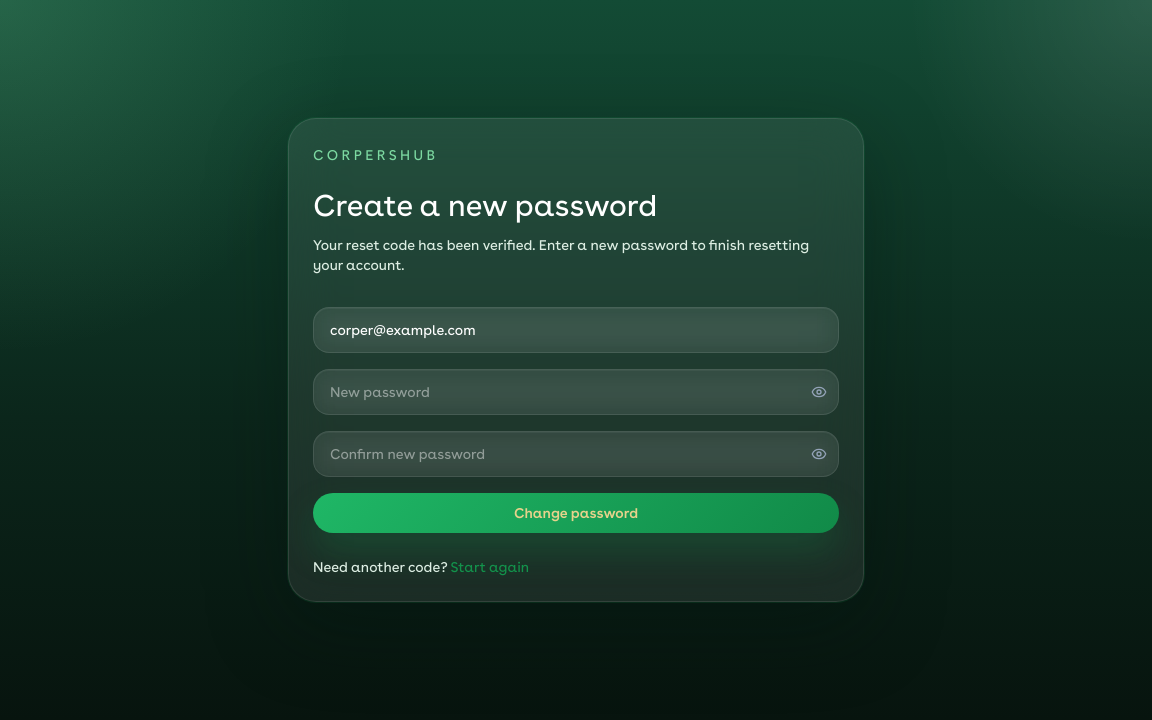
Scenario: ResetPasswordPage › toggles password visibility independently on the reset form
Click the 1st button named "Show password". click: (819, 392)
box: [811,384,827,400]
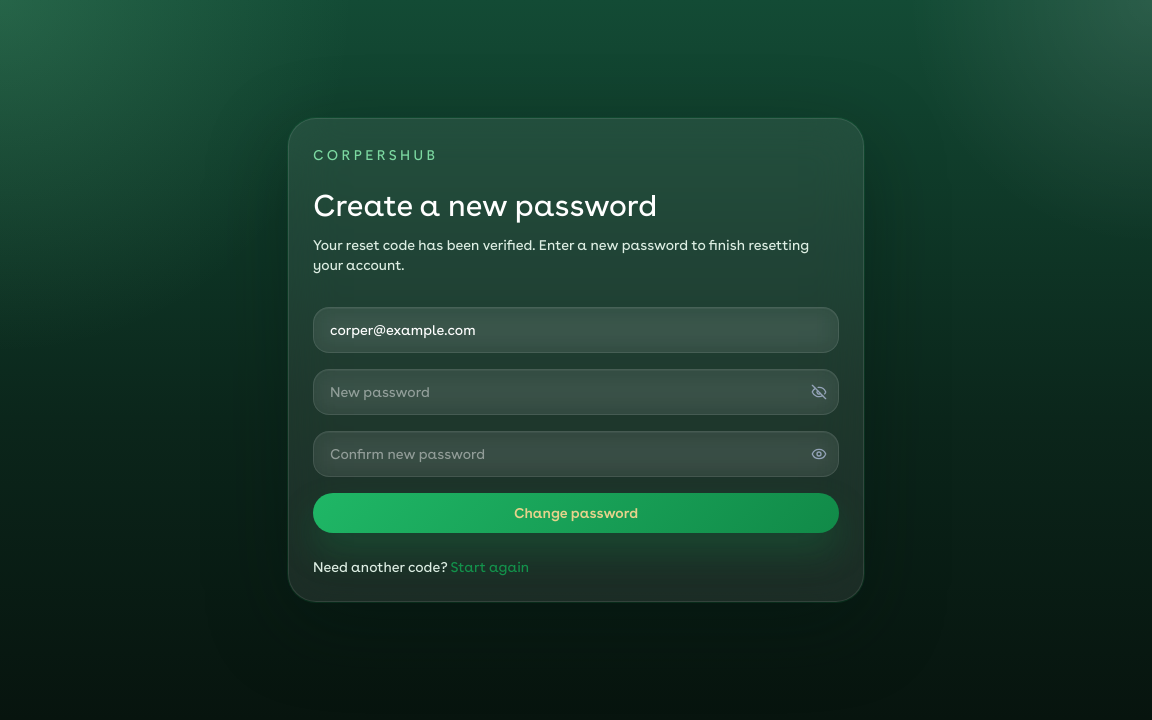
Now the button named "Hide password" is shown, box [811,384,827,400]
